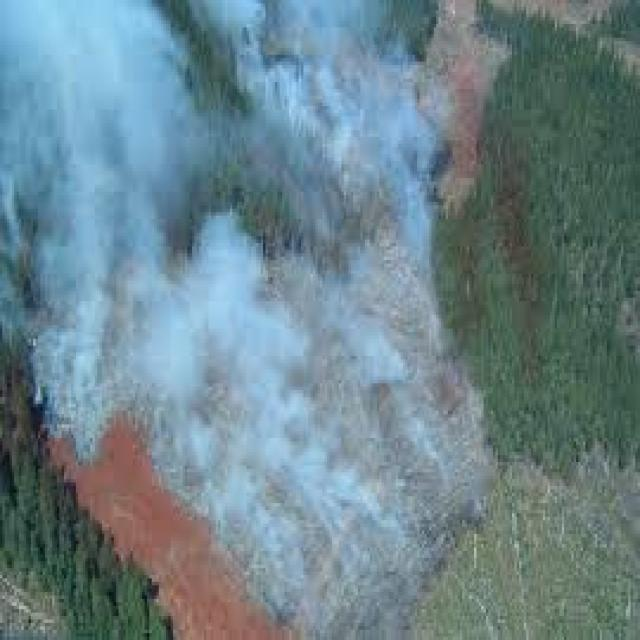Smoke: (0, 0, 340, 426), (0, 0, 275, 445), (189, 0, 448, 375), (220, 244, 408, 590)
